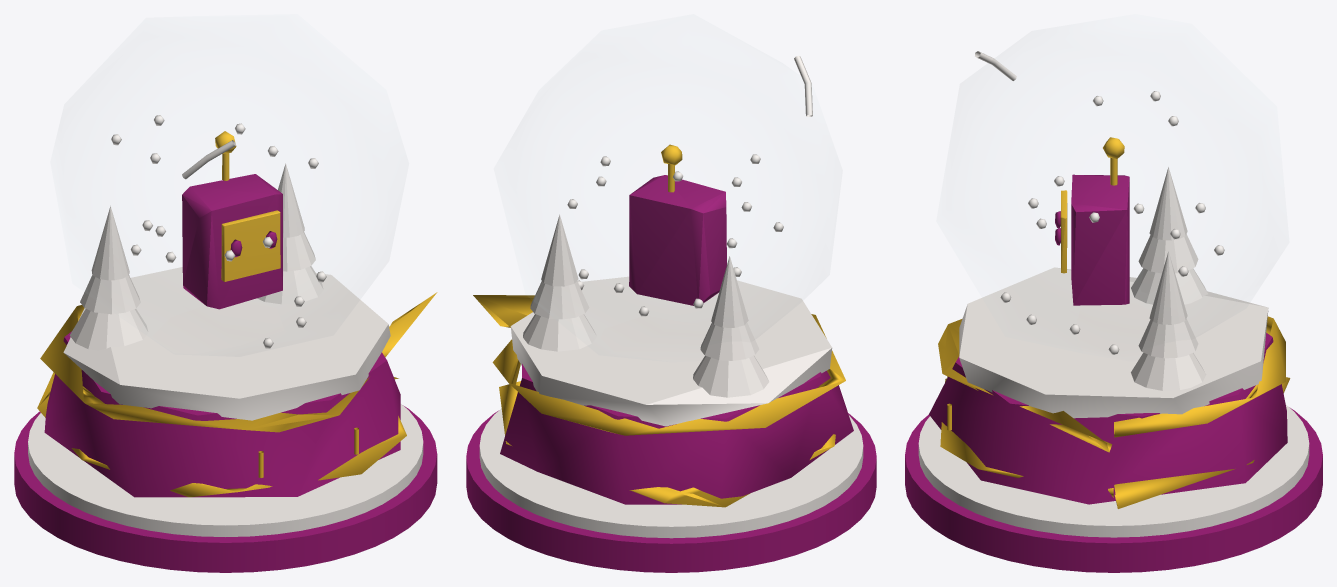
File: desk.toy.snow-globe.lod1.glb
3 views of the same model, side by side, from view 1: azimuth 30°, elevation 25°; view 2: azimuth 150°, elevation 25°; view 3: azimuth 270°, elevation 25° (orthographic). The views are drawn at different scales.
Visible parts, largest first — view 1: snow_field, music_box_base, stand_base, stand_trim, winter_emi, gold_base_ring.001, winter_screen, gold_base_ring, snow_tree, snow_tree.001, snow_tree.002, snow_tree.003 (+2 smaller); view 2: snow_field, music_box_base, stand_base, stand_trim, winter_emi, gold_base_ring.001, snow_tree, snow_tree.003, gold_base_ring, snow_tree.004, snow_tree.001, snow_tree.005 (+1 smaller); view 3: snow_field, music_box_base, stand_base, stand_trim, winter_emi, gold_base_ring.001, gold_base_ring, snow_tree.003, snow_tree.004, snow_tree.001, snow_tree.005, snow_tree.002 (+2 smaller).
Part boxes in pixels (x1=…): snow_field: x1=63, y1=267, x2=390, y2=420; music_box_base: x1=44, y1=331, x2=400, y2=497; stand_base: x1=14, y1=405, x2=437, y2=572; stand_trim: x1=28, y1=404, x2=423, y2=536; winter_emi: x1=182, y1=174, x2=282, y2=309; gold_base_ring.001: x1=40, y1=292, x2=437, y2=432; winter_screen: x1=221, y1=210, x2=280, y2=281; gold_base_ring: x1=37, y1=372, x2=406, y2=497; snow_tree: x1=69, y1=309, x2=148, y2=350; snow_tree.001: x1=80, y1=275, x2=140, y2=314; snow_tree.002: x1=91, y1=206, x2=129, y2=280; snow_tree.003: x1=257, y1=266, x2=323, y2=304; snow_field: x1=510, y1=276, x2=832, y2=426; music_box_base: x1=500, y1=364, x2=853, y2=504; stand_base: x1=466, y1=410, x2=876, y2=572; stand_trim: x1=479, y1=408, x2=863, y2=538; winter_emi: x1=629, y1=175, x2=726, y2=305; gold_base_ring.001: x1=473, y1=295, x2=845, y2=435; snow_tree: x1=693, y1=355, x2=769, y2=397; snow_tree.003: x1=523, y1=314, x2=596, y2=351; gold_base_ring: x1=499, y1=381, x2=835, y2=507; snow_tree.004: x1=530, y1=281, x2=589, y2=319; snow_tree.001: x1=700, y1=322, x2=759, y2=360; snow_tree.005: x1=541, y1=214, x2=578, y2=286; snow_field: x1=959, y1=267, x2=1268, y2=418; music_box_base: x1=929, y1=333, x2=1287, y2=504; stand_base: x1=905, y1=407, x2=1322, y2=572; stand_trim: x1=918, y1=404, x2=1309, y2=537; winter_emi: x1=1071, y1=174, x2=1129, y2=305; gold_base_ring.001: x1=938, y1=316, x2=1285, y2=452; gold_base_ring: x1=940, y1=377, x2=1290, y2=508; snow_tree.003: x1=1131, y1=352, x2=1205, y2=390; snow_tree.004: x1=1138, y1=319, x2=1198, y2=358; snow_tree.001: x1=1138, y1=234, x2=1198, y2=273; snow_tree.005: x1=1149, y1=251, x2=1187, y2=324; snow_tree.002: x1=1149, y1=167, x2=1187, y2=240.
Size of the model in its own units: 0.5131 by 0.5824 by 0.48.
